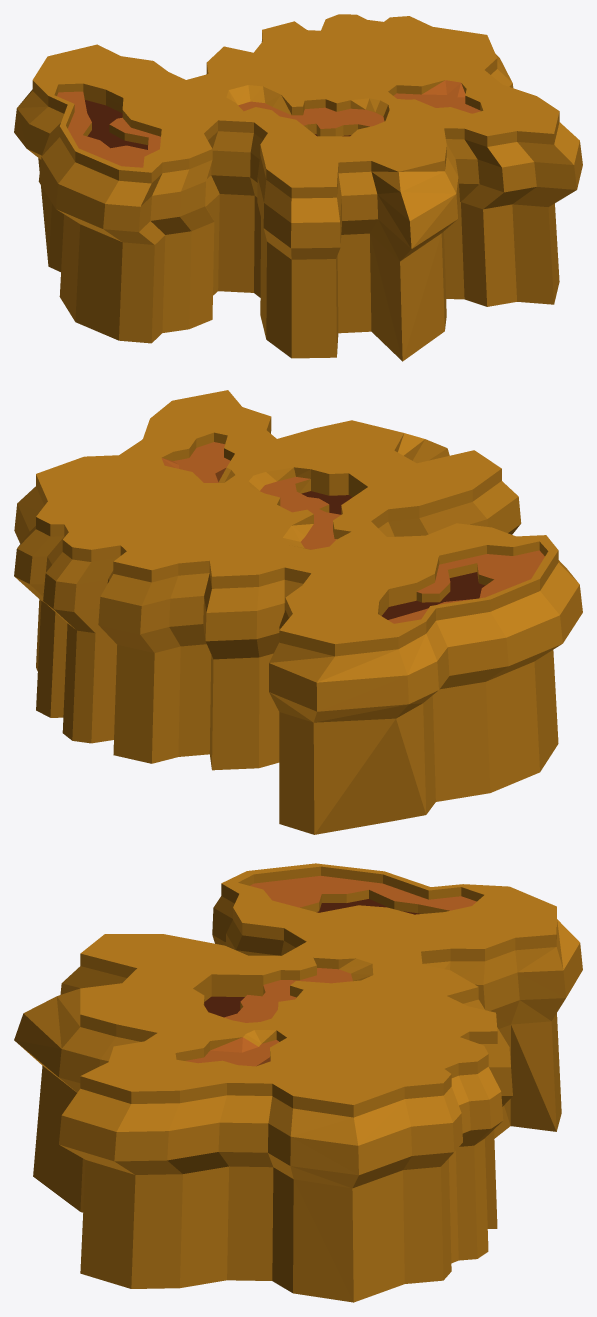
Rendered from building_01.FBX.
3 views of the same model, one above another, from view 1: azimuth 30°, elevation 25°; view 2: azimuth 150°, elevation 25°; view 3: azimuth 270°, elevation 25° (orthographic). The views are drawn at different scales.
Visible parts, largest first — view 1: building_01, building_03, building_02; view 2: building_01, building_03, building_02; view 3: building_01, building_03, building_02.
Part boxes in pixels (x1=…): building_01: x1=14, y1=14, x2=582, y2=361; building_03: x1=57, y1=80, x2=480, y2=167; building_02: x1=85, y1=100, x2=350, y2=149; building_01: x1=14, y1=390, x2=582, y2=834; building_03: x1=161, y1=442, x2=544, y2=623; building_02: x1=301, y1=491, x2=485, y2=619; building_01: x1=14, y1=863, x2=582, y2=1302; building_03: x1=186, y1=876, x2=476, y2=1066; building_02: x1=204, y1=899, x2=420, y2=1017.
Size of the model in its own units: 18436 by 6470 by 16896.
